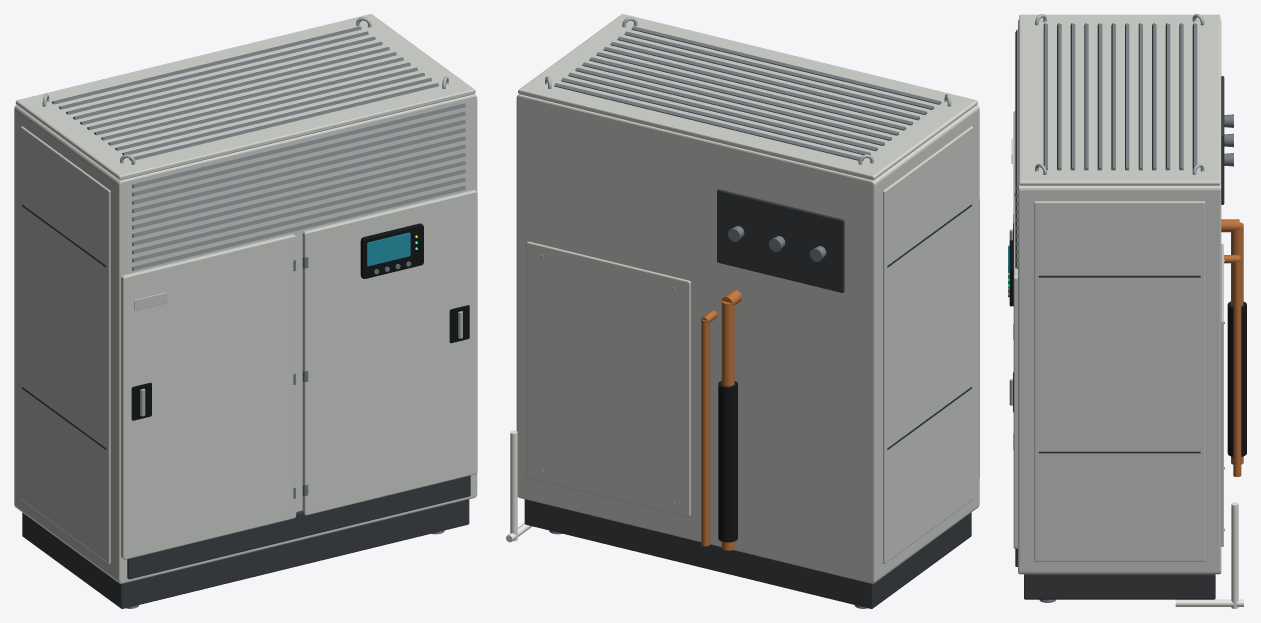
Rendered from crac.glb.
3 views of the same model, side by side, from view 1: azimuth 30°, elevation 25°; view 2: azimuth 150°, elevation 25°; view 3: azimuth 270°, elevation 25° (orthographic). The views are drawn at different scales.
Parts seen in each view (by area): view 1: front_door_left, front_door_right, cabinet_body, side_panel_left, top_deck, front_intake, top_intake, base_plinth, front_kick_panel, control_panel_bezel, control_display; view 2: cabinet_body, rear_service_panel, side_panel_left, top_deck, top_intake, base_plinth, rear_gland_plate, suction_line_insulation, liquid_line, suction_line, condensate_drain; view 3: side_panel_right, top_deck, cabinet_body, top_intake, base_plinth, suction_line_insulation, liquid_line, front_door_right, rear_service_panel, condensate_drain, front_intake, suction_line (+5 smaller).
Part boxes in pixels (bbox=[...]): front_door_left: bbox=[121, 234, 296, 559]; front_door_right: bbox=[302, 190, 477, 515]; cabinet_body: bbox=[14, 94, 477, 583]; side_panel_left: bbox=[20, 126, 110, 563]; top_deck: bbox=[15, 14, 475, 180]; front_intake: bbox=[132, 103, 465, 270]; top_intake: bbox=[52, 26, 438, 160]; base_plinth: bbox=[22, 499, 469, 608]; front_kick_panel: bbox=[127, 475, 470, 579]; control_panel_bezel: bbox=[360, 223, 423, 278]; control_display: bbox=[367, 232, 410, 266]; cabinet_body: bbox=[516, 94, 979, 583]; rear_service_panel: bbox=[526, 241, 690, 516]; side_panel_left: bbox=[883, 126, 973, 563]; top_deck: bbox=[518, 14, 977, 180]; top_intake: bbox=[554, 26, 941, 160]; base_plinth: bbox=[524, 499, 971, 608]; rear_gland_plate: bbox=[717, 189, 844, 292]; suction_line_insulation: bbox=[718, 381, 737, 542]; liquid_line: bbox=[701, 319, 709, 546]; suction_line: bbox=[721, 301, 734, 550]; condensate_drain: bbox=[510, 430, 517, 541]; side_panel_right: bbox=[1034, 201, 1205, 561]; top_deck: bbox=[1019, 14, 1220, 185]; cabinet_body: bbox=[1018, 19, 1221, 574]; top_intake: bbox=[1043, 23, 1197, 170]; base_plinth: bbox=[1024, 574, 1215, 599]; suction_line_insulation: bbox=[1227, 301, 1246, 456]; liquid_line: bbox=[1233, 257, 1241, 476]; front_door_right: bbox=[1013, 196, 1017, 548]; rear_service_panel: bbox=[1221, 243, 1223, 546]; condensate_drain: bbox=[1231, 502, 1238, 608]; front_intake: bbox=[1015, 29, 1017, 268]; suction_line: bbox=[1231, 222, 1243, 464].
Bounding box in the file's own units: 1.77 × 2.12 × 1.05.
